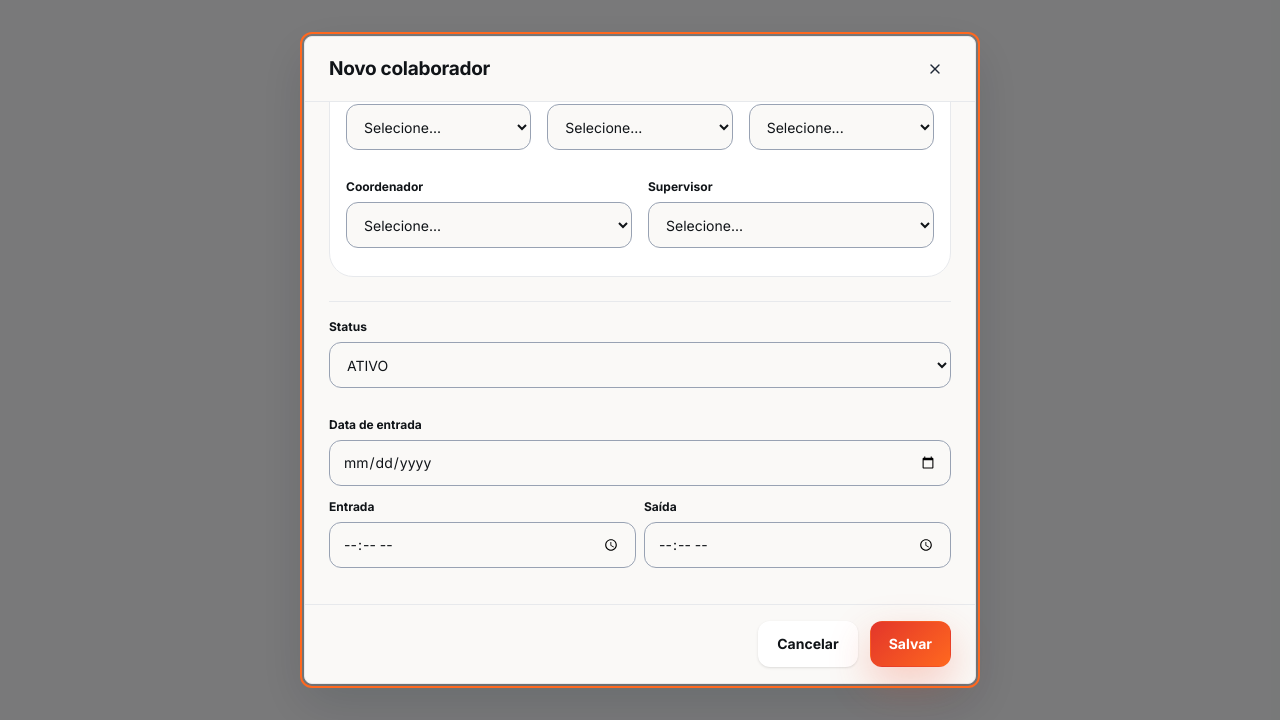
CollaboratorFormModal › mostra o campo de data de desligamento apenas quando o status é desligado
(page scrolled)
Expected: the field labelled "Data do desligamento" is not shown
Select "DESLIGADO" in the dropdown labelled "Status" at [640, 365], box [329, 342, 951, 388]
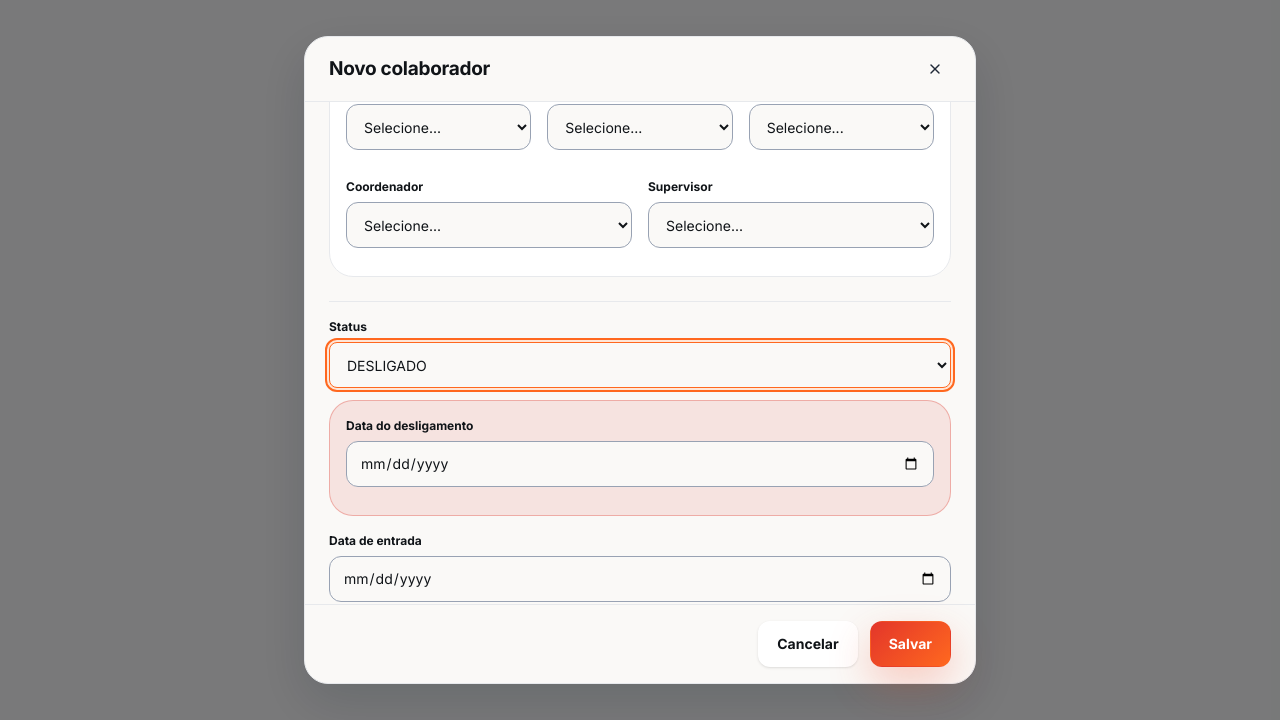
Now the date field labelled "Data do desligamento" is shown, box [346, 441, 934, 487]
